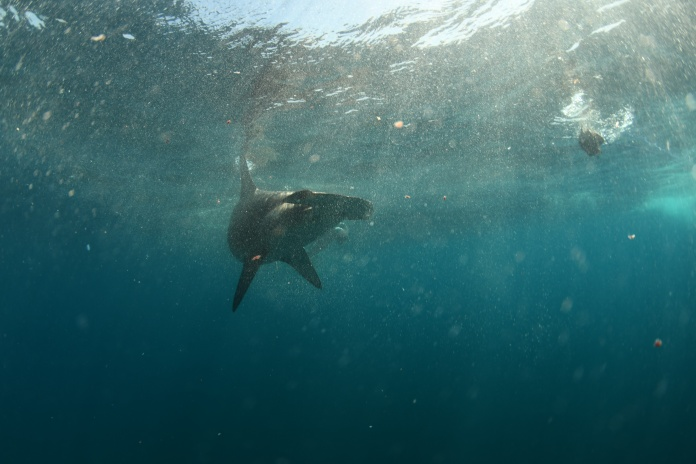Hammer: (162, 137, 408, 329)
